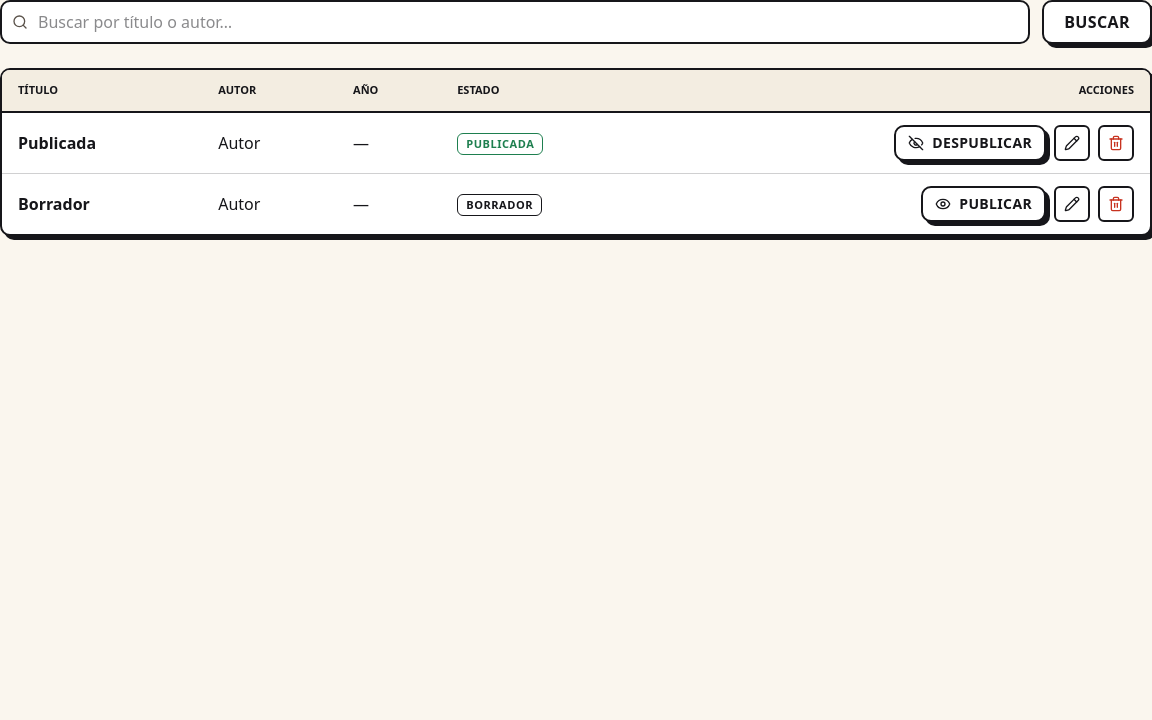
CurationList › Escape cierra el dialogo sin borrar
Click the button named "Eliminar Publicada": [1116, 142] box left=1098, top=124, right=1134, bottom=160
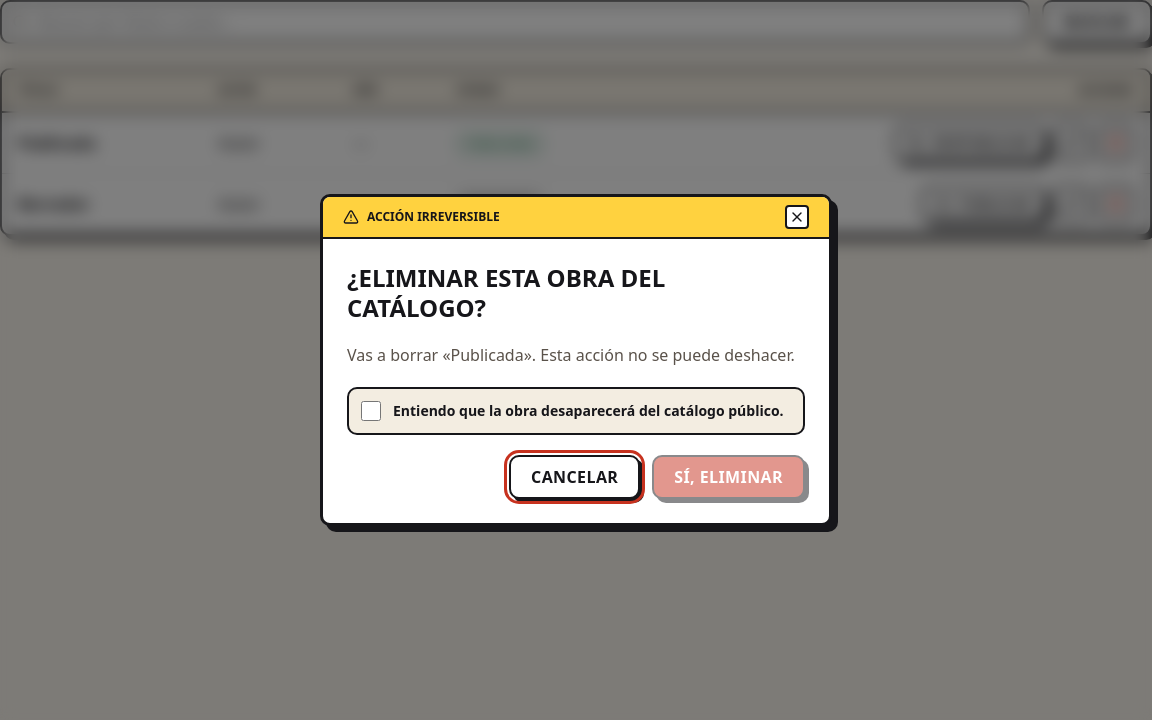
Press Escape
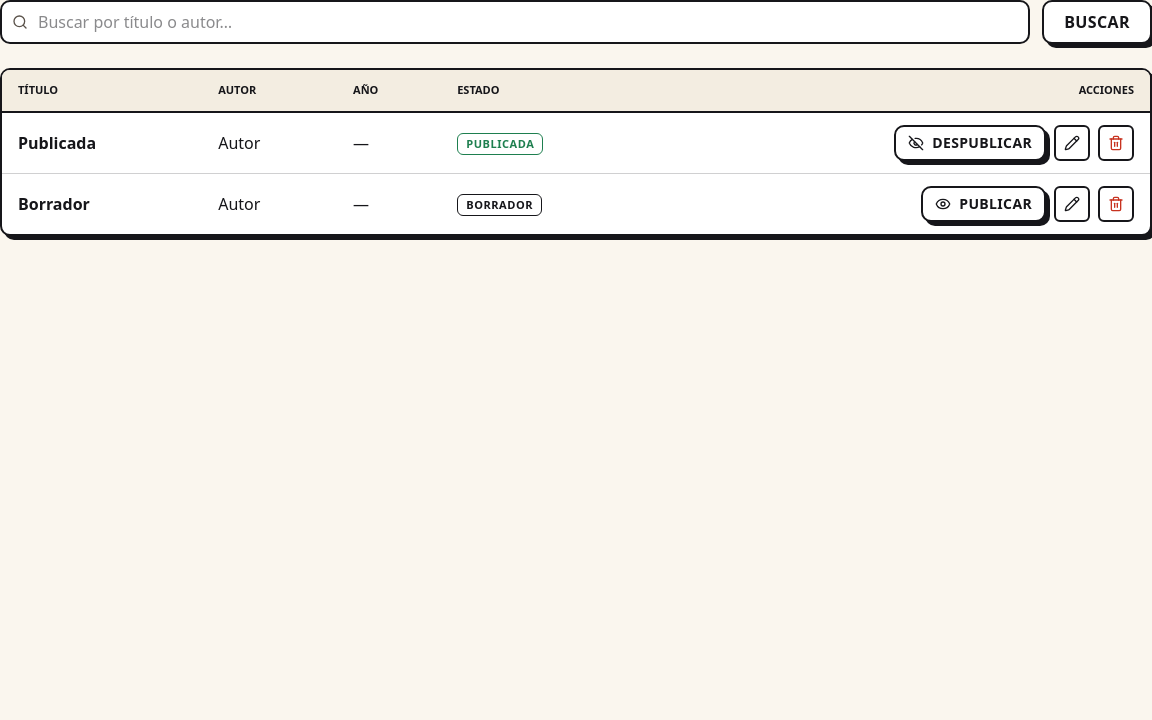
Now the dialog is gone
